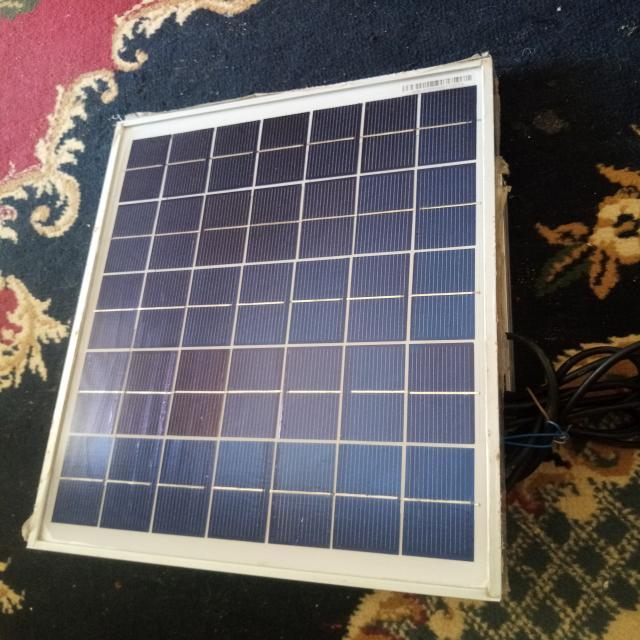no faulty: (29, 62, 496, 595)
